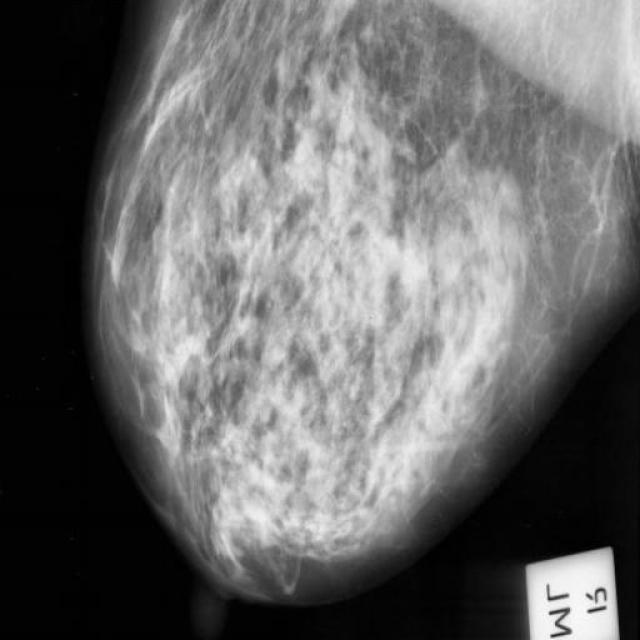cancer: (218, 485, 262, 545)
